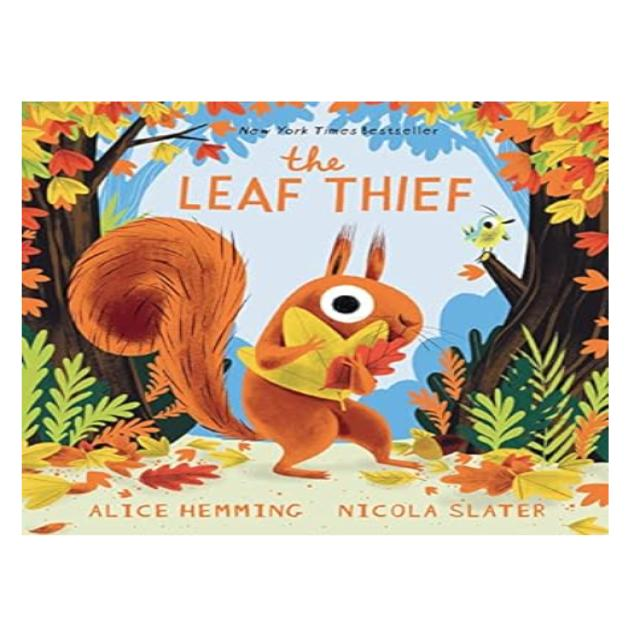titles-or-authors: (167, 139, 481, 217), (81, 496, 555, 524)
